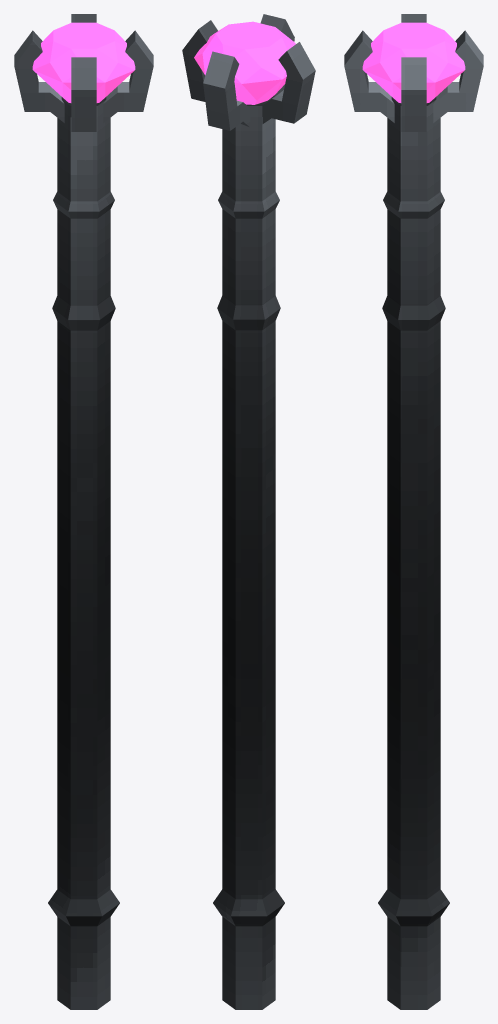
Rendered from sparkWand.glb.
The picture shows the model from 3 angles, left to right: view 1: azimuth 90°, elevation 25°; view 2: azimuth 150°, elevation 25°; view 3: azimuth 270°, elevation 25°; orthographic projection.
Parts seen in each view (by area): view 1: Cube, Gem; view 2: Cube, Gem; view 3: Cube, Gem.
Part boxes in pixels (left/top/right/bottom): Cube: left=14, top=14, right=153, bottom=1009; Gem: left=32, top=22, right=135, bottom=102; Cube: left=182, top=14, right=315, bottom=1009; Gem: left=194, top=21, right=295, bottom=104; Cube: left=344, top=14, right=483, bottom=1009; Gem: left=362, top=22, right=465, bottom=102.
Size of the model in its own units: 0.1745 by 1.33 by 0.1745.
Materials: 2 (1 with a texture image).
